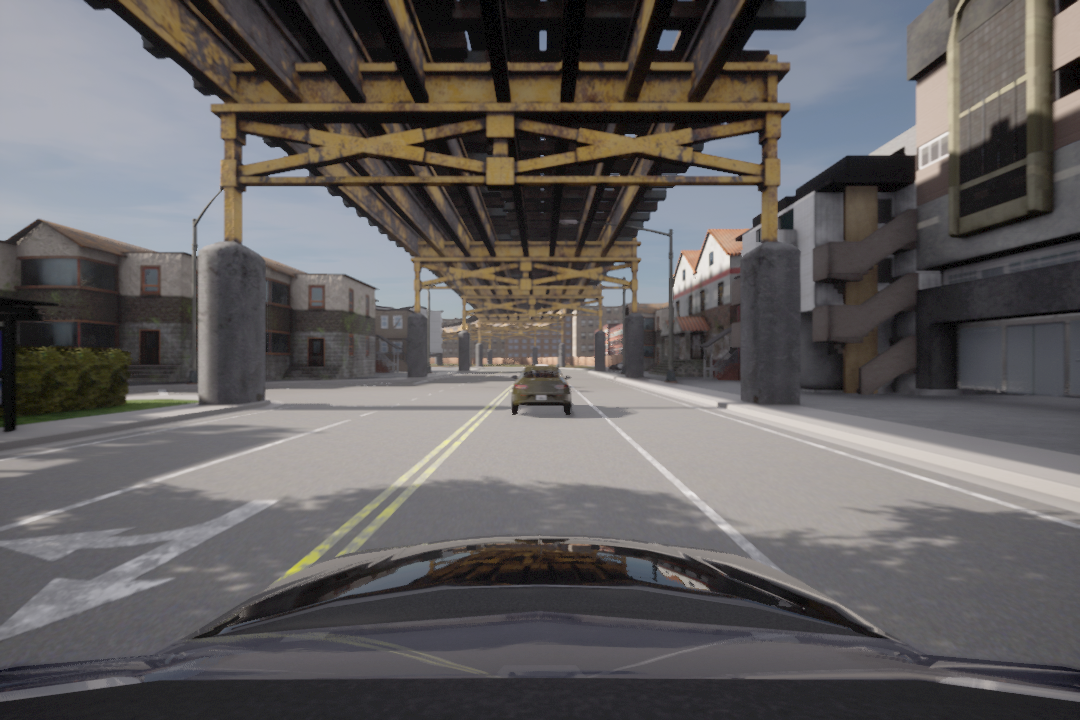RoadSign_forward_left: (4, 500, 281, 654)
